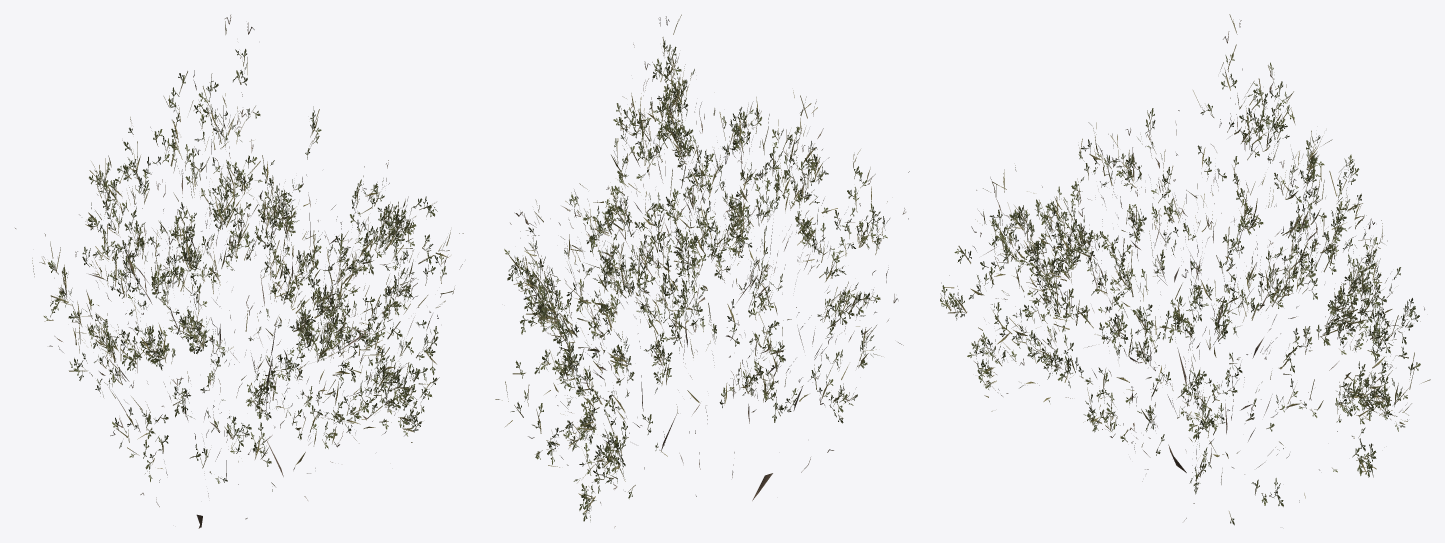
The model's file is tree_searsia_burchellii_sapling.glb.
The picture shows the model from 3 angles, left to right: view 1: azimuth 30°, elevation 25°; view 2: azimuth 150°, elevation 25°; view 3: azimuth 270°, elevation 25°; orthographic projection. The views are drawn at different scales.
Visible parts, largest first — view 1: tree_searsia_burchellii_sapling; view 2: tree_searsia_burchellii_sapling; view 3: tree_searsia_burchellii_sapling.
Boxes of the visible parts, x1,y1,x2,y2 form: tree_searsia_burchellii_sapling: [15, 15, 463, 528]; tree_searsia_burchellii_sapling: [495, 14, 909, 527]; tree_searsia_burchellii_sapling: [940, 14, 1430, 525].
Size of what is drawn, in the model's own units: 2.45 by 3.5 by 3.15.
Materials: 3 (3 with a texture image).
